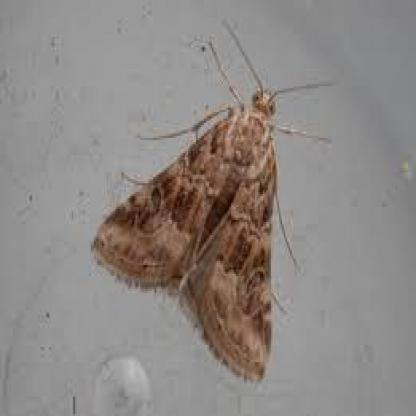Hellula undalis: (88, 10, 339, 396)
